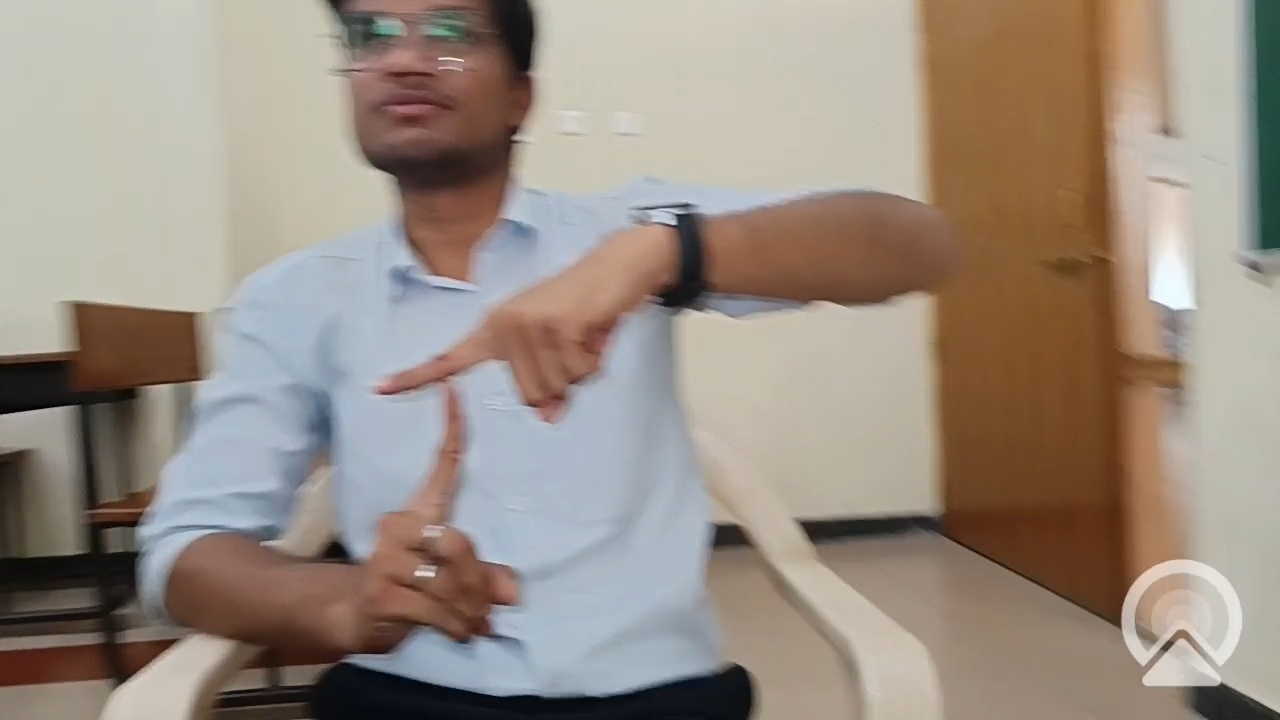T: (279, 227, 643, 649)
